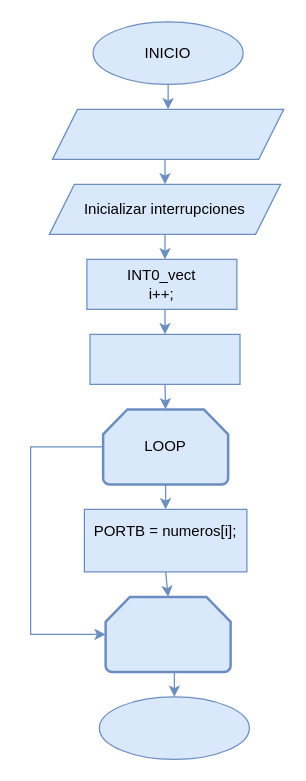
This 306x781 diagram has some shape labels left out. The shapes that lost their labels are listed below. From the top down, each one's centre as x and y in pixels, then its label:
At point (167, 133): "Inicializar Puertos Entrada".
At point (164, 358): "INT1_vect i--;".
At point (173, 727): "FIN".
